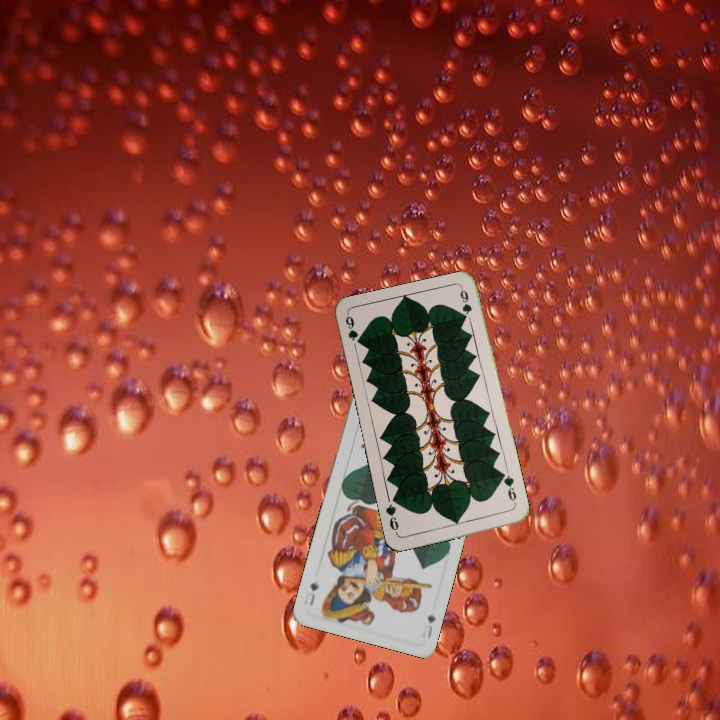G9: (498, 469, 519, 509), (341, 311, 364, 347)
GU: (418, 611, 438, 641)
